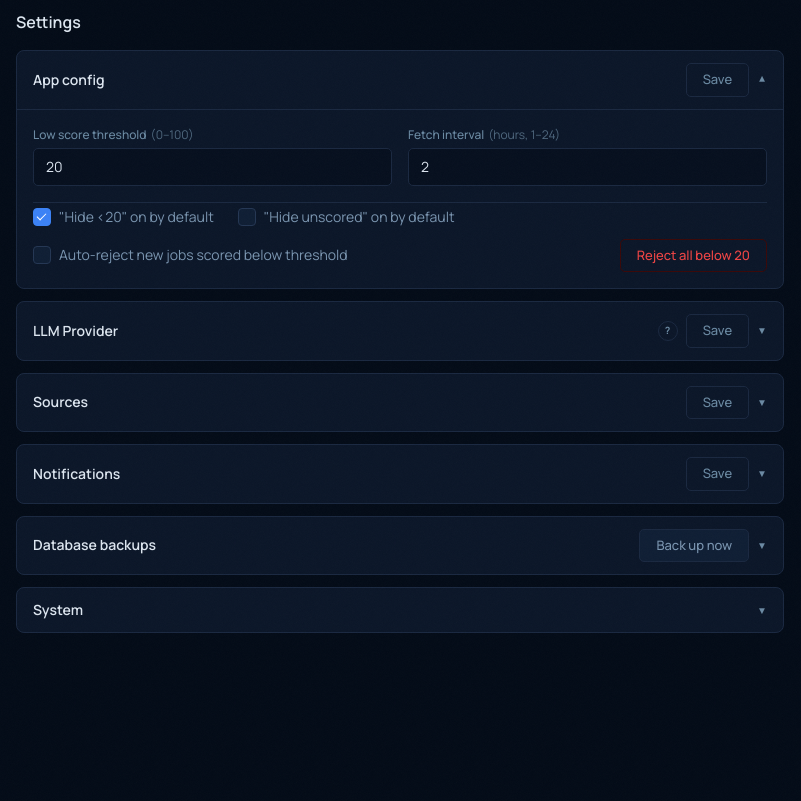
Test: SettingsView › all source checkboxes are checked by default when disabledSources is empty
Click the text "Sources". click: (60, 402)
box: [33,392,88,412]
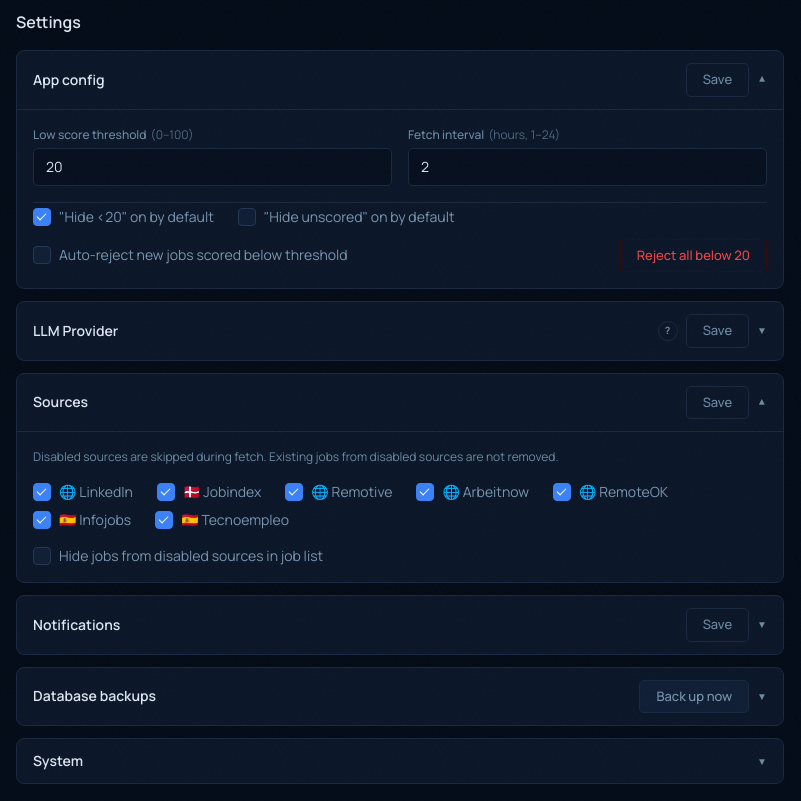
expect the checkbox labelled "🌐 LinkedIn" is checked: met, box [33,483,51,501]
expect the checkbox labelled "🇩🇰 Jobindex" is checked: met, box [157,483,175,501]
expect the checkbox labelled "🌐 Remotive" is checked: met, box [285,483,303,501]
